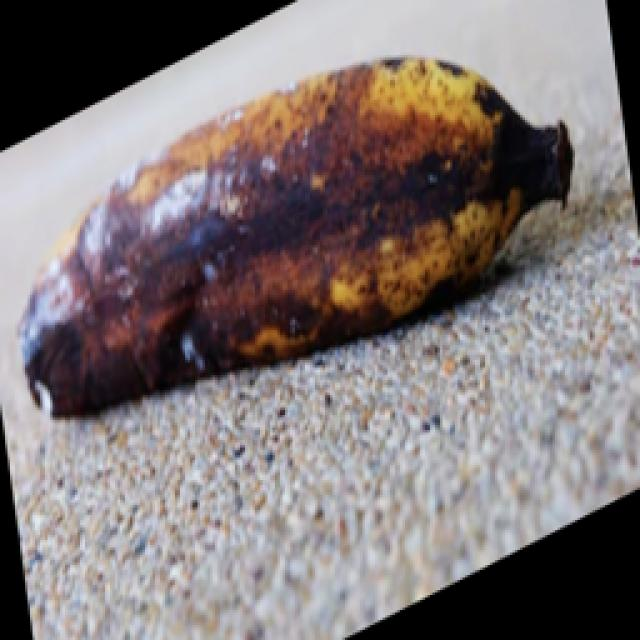Rotten_Banana: (23, 61, 597, 384)
